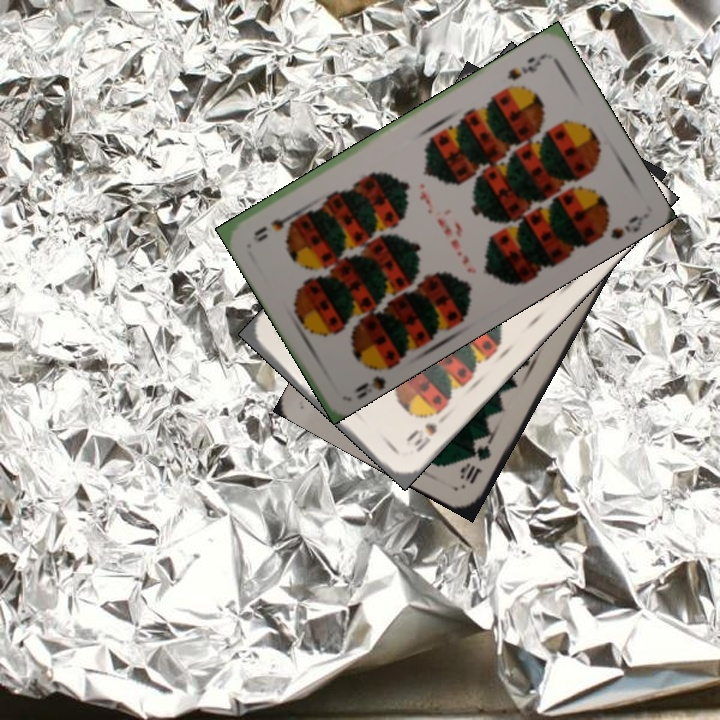G10: (457, 432, 495, 487)
S10: (404, 411, 449, 455)
S9: (350, 354, 397, 400), (503, 50, 549, 83)
